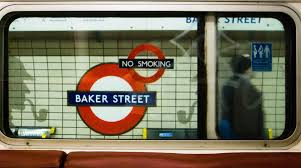London Underground: (69, 65, 159, 134), (118, 45, 173, 82)
